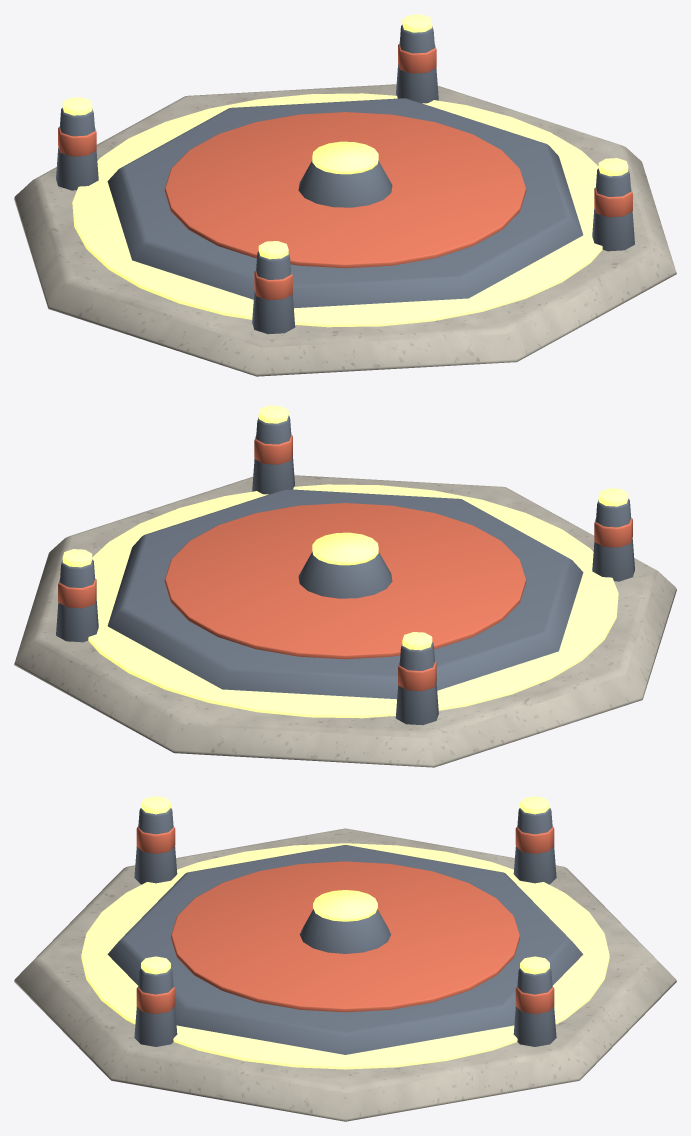
File: flag_pedestal_red.glb
The picture shows the model from 3 angles, top to bottom: view 1: azimuth 30°, elevation 25°; view 2: azimuth 150°, elevation 25°; view 3: azimuth 270°, elevation 25°; orthographic projection. The views are drawn at different scales.
Parts seen in each view (by area): view 1: BaseSlabOuter, BaseTeamMedallion, BaseSlabInner, BaseLEDRing, FlagSocket, Bollard_2, Bollard_3, Bollard_1, Bollard_0, FlagSocketGlow, BollardTeam_0, BollardTeam_2 (+2 smaller); view 2: BaseSlabOuter, BaseTeamMedallion, BaseSlabInner, BaseLEDRing, FlagSocket, Bollard_1, Bollard_0, Bollard_2, Bollard_3, FlagSocketGlow, BollardTeam_3, BollardTeam_0 (+2 smaller); view 3: BaseSlabOuter, BaseTeamMedallion, BaseSlabInner, BaseLEDRing, FlagSocket, Bollard_0, Bollard_3, Bollard_1, Bollard_2, FlagSocketGlow, BollardTeam_1, BollardTeam_2 (+2 smaller).
Part boxes in pixels (x1,y1,x2,y2): BaseSlabOuter: (14,84,676,376); BaseTeamMedallion: (164,112,526,268); BaseSlabInner: (107,98,583,308); BaseLEDRing: (72,93,602,327); FlagSocket: (298,160,392,207); Bollard_2: (252,251,295,334); Bollard_3: (592,168,634,251); Bollard_1: (56,107,98,190); Bollard_0: (395,24,438,103); FlagSocketGlow: (312,141,378,174); BollardTeam_0: (398,44,436,73); BollardTeam_2: (254,270,292,300); BaseSlabOuter: (14,475,676,767); BaseTeamMedallion: (164,503,526,659); BaseSlabInner: (107,489,583,699); BaseLEDRing: (88,484,618,718); FlagSocket: (298,551,392,598); Bollard_1: (395,642,438,725); Bollard_0: (56,559,98,642); Bollard_2: (592,498,634,581); Bollard_3: (252,415,295,494); FlagSocketGlow: (312,532,378,565); BollardTeam_3: (254,435,292,464); BollardTeam_0: (58,578,96,608); BaseSlabOuter: (14,828,676,1121); BaseTeamMedallion: (171,861,519,1012); BaseSlabInner: (107,845,583,1054); BaseLEDRing: (81,843,609,1069); FlagSocket: (299,909,391,953); Bollard_0: (513,968,556,1046); Bollard_3: (134,968,177,1046); Bollard_1: (513,808,556,884); Bollard_2: (134,808,177,884); FlagSocketGlow: (313,890,377,921); BollardTeam_1: (515,826,554,853); BollardTeam_2: (136,826,175,853).
Bounding box in the file's own units: 5.32 × 0.89 × 5.32.
Materials: 4 (1 with a texture image).
